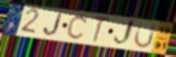2: (18, 7, 42, 36)
C: (65, 14, 90, 40)
J: (111, 18, 136, 48), (42, 12, 64, 37)
T: (92, 15, 112, 44)
U: (133, 21, 158, 50)
